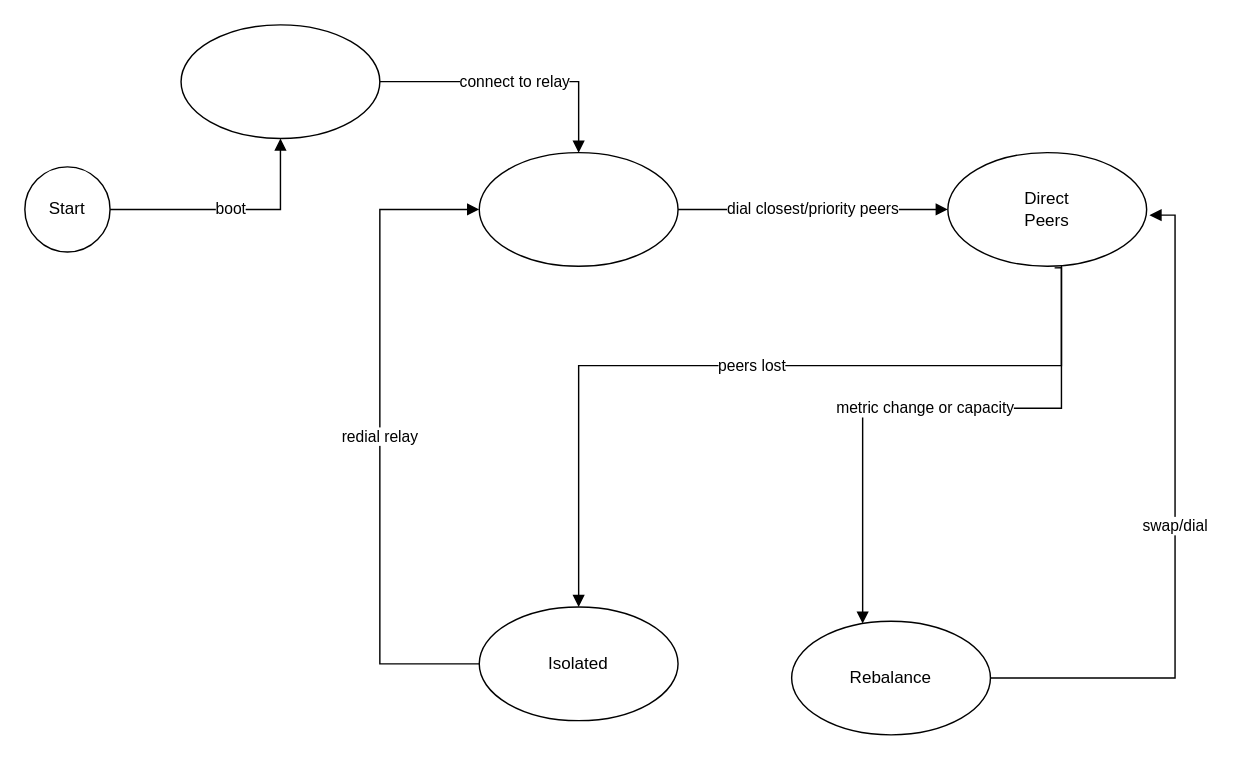
The diagram is 1233 pixels wide and 760 high, and some of its shapes have lost their labels. The box of each missing label's shape, as (x1, y1, x2, y2) in pixels:
No Connections: (180, 23, 380, 138)
Relay Connected: (478, 151, 678, 266)
